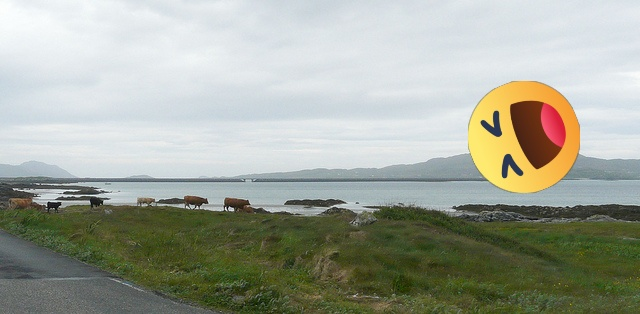haha: (468, 81, 580, 193)
